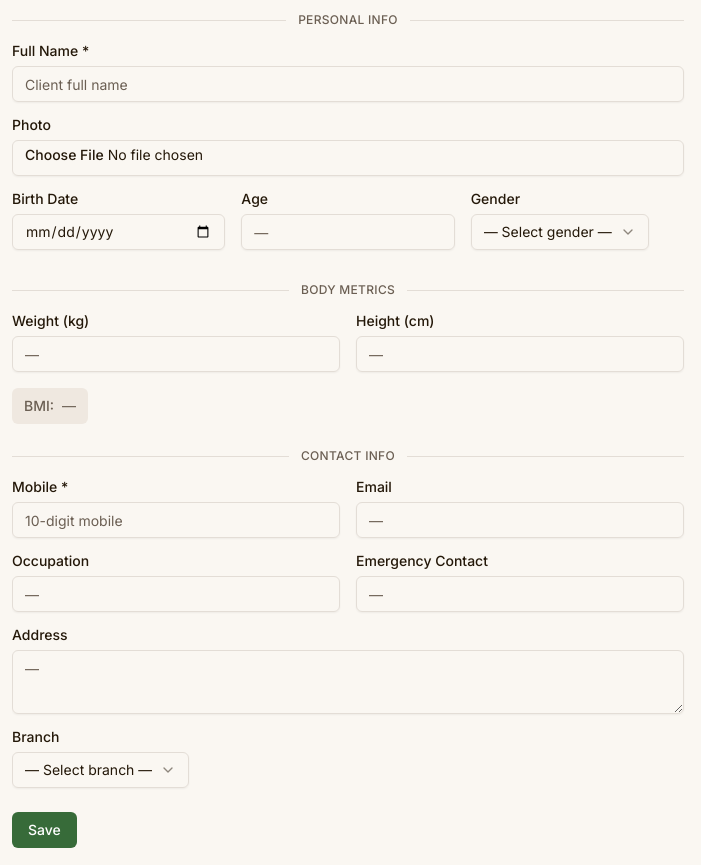
Test case: PatientForm live BMI › shows BMI as weight and height are typed
In the number field labelled "Weight (kg)": (176, 354) [12,336,340,372], type "70"
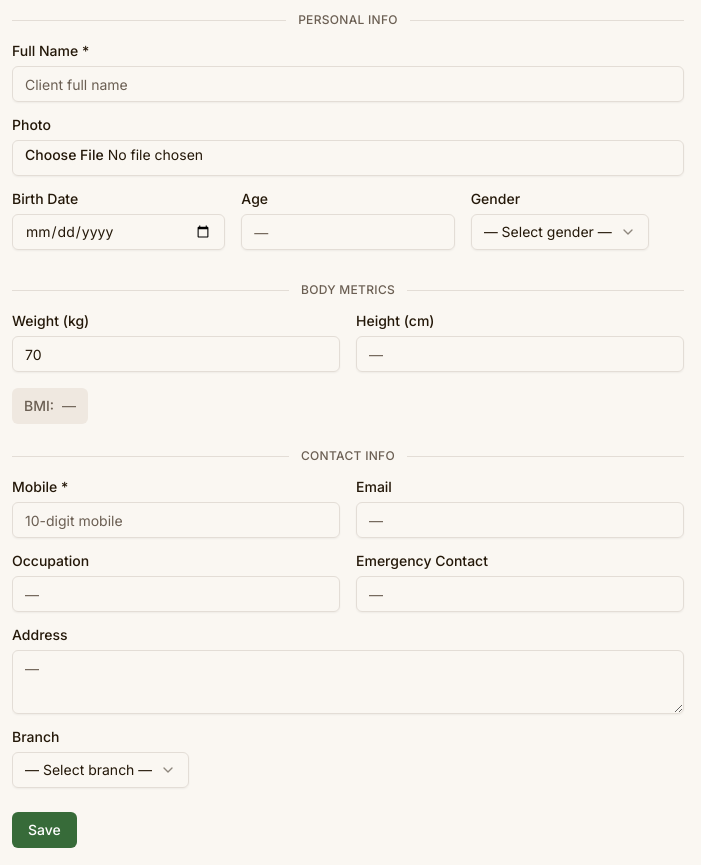
In the number field labelled "Height (cm)": (520, 354) [356,336,684,372], type "175"
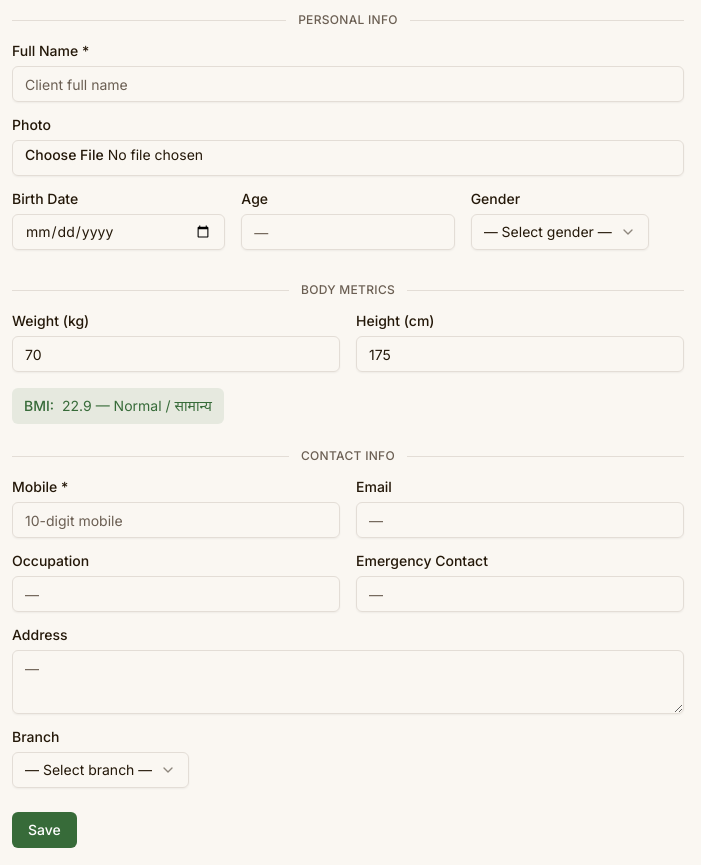
Result: the element with test id "bmi" shows "22.9" at [62,397,212,414]
Result: the element with test id "bmi" shows "Normal" at [62,397,212,414]
